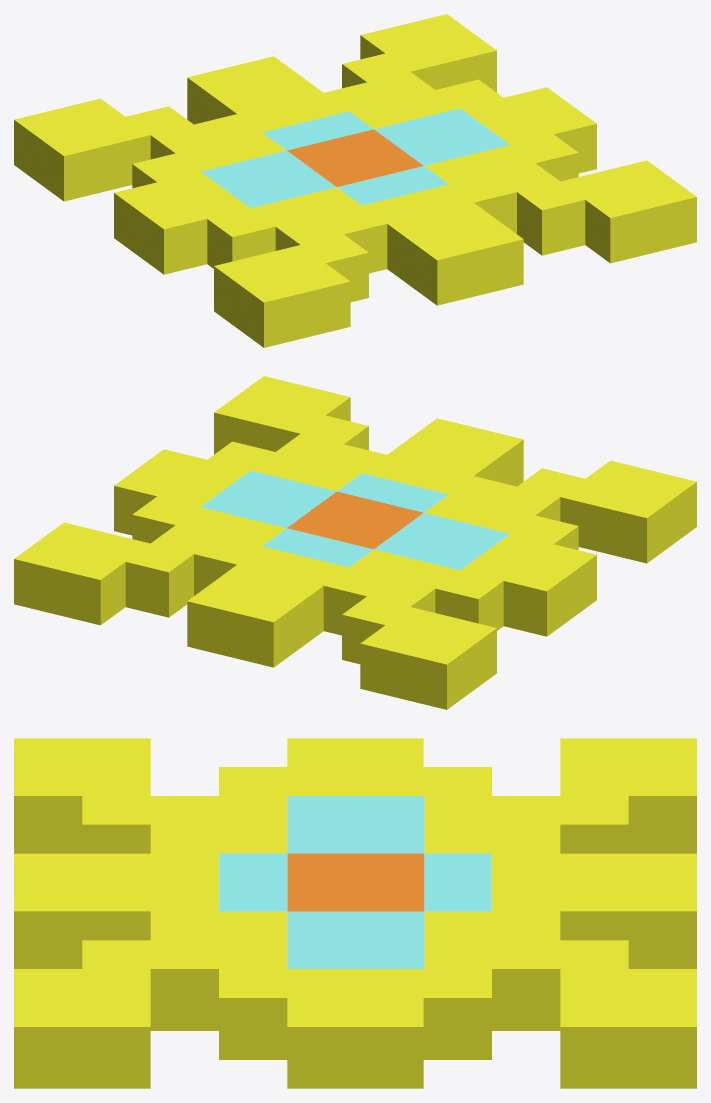
File: station.fbx
3 views of the same model, one above another, from view 1: azimuth 30°, elevation 25°; view 2: azimuth 150°, elevation 25°; view 3: azimuth 270°, elevation 25° (orthographic). The views are drawn at different scales.
Parts seen in each view (by area): view 1: station; view 2: station; view 3: station.
Part boxes in pixels (x1,y1,x2,y2): station: [14, 14, 696, 347]; station: [14, 376, 696, 709]; station: [14, 738, 696, 1088].
Size of the model in its own units: 100 by 10 by 100.
1 material, 1 textured.
